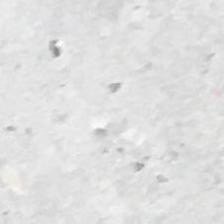Non_Crack: (27, 13, 224, 224)
